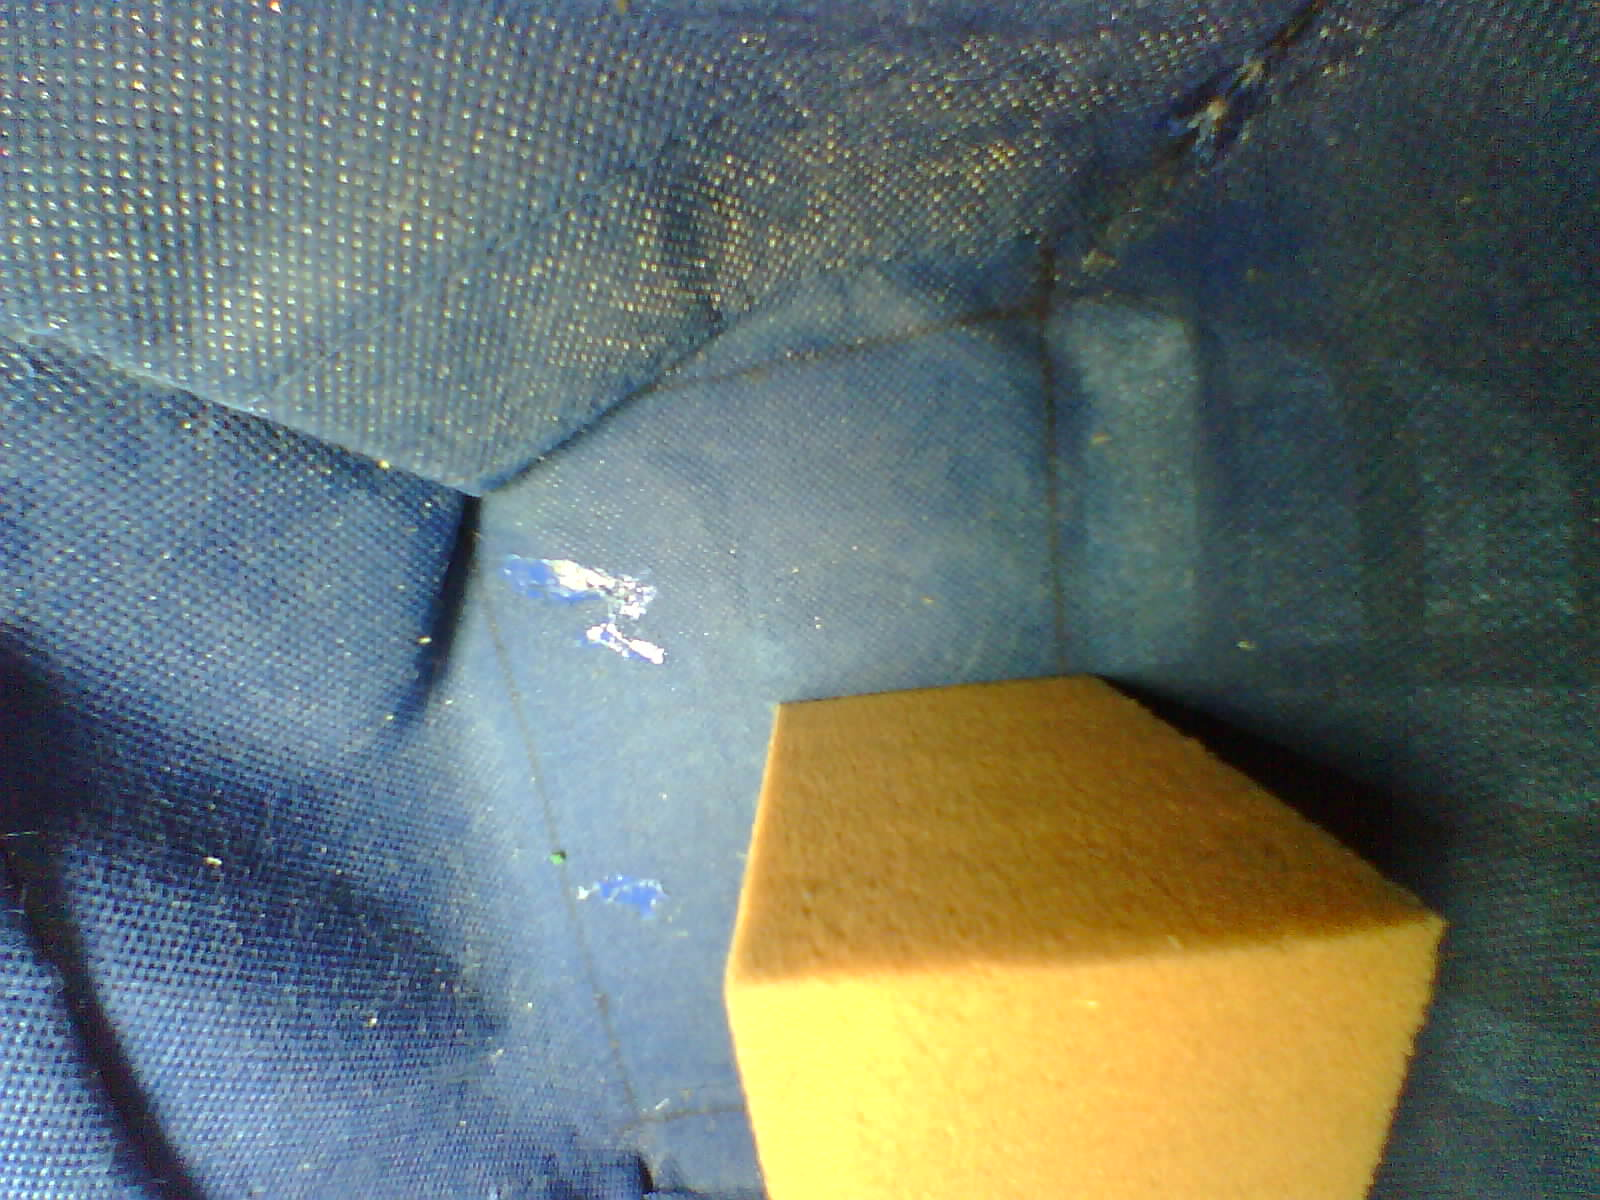cube-soft: (703, 649, 1461, 1200)
